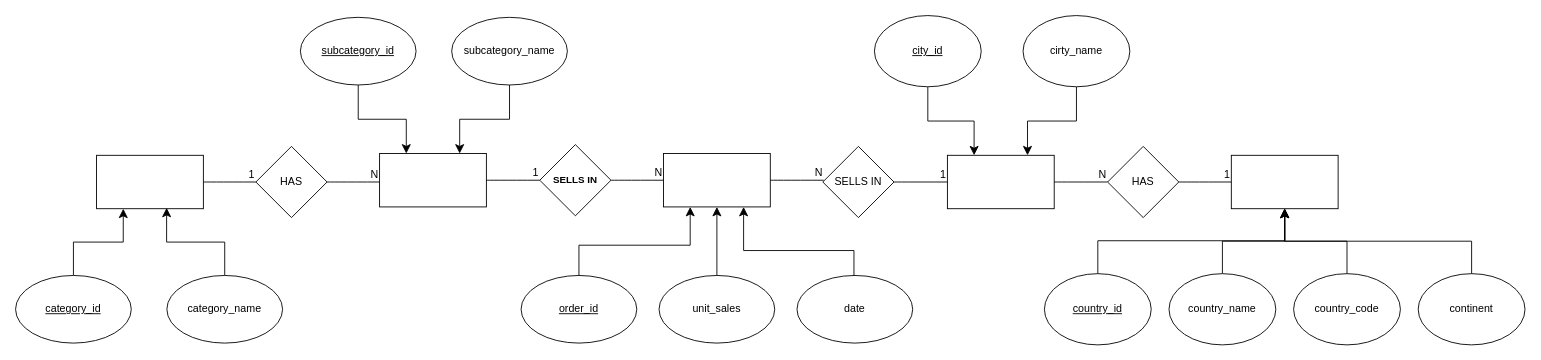
This 1541x360 diagram has some shape labels left out. The centre of each missing label's shape, as x and y in pixels:
"CATEGORY" goes at point 149,181.
"CITY" goes at point 1000,181.
"COUNTRY" goes at point 1284,181.
"ORDER" goes at point 716,180.
"SUBCATEGORY" goes at point 432,180.
